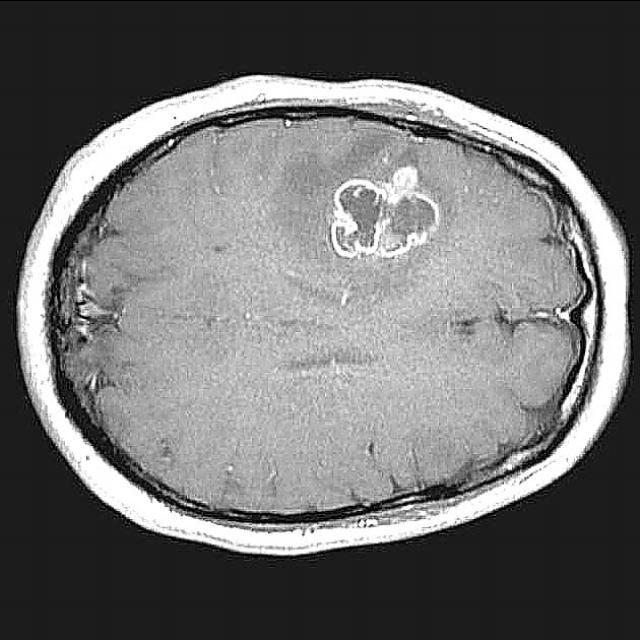tumor: (328, 165, 443, 264)
